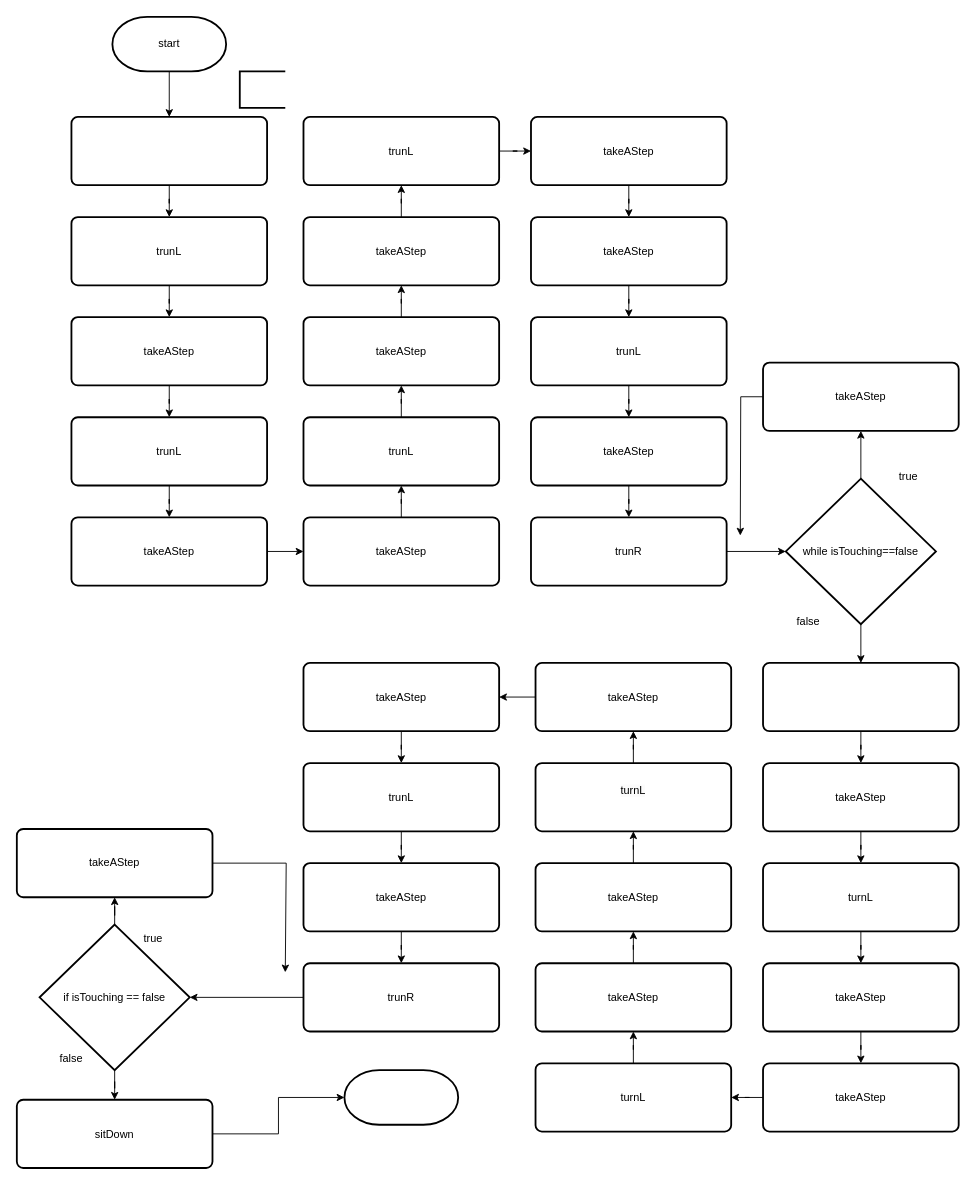
Some shapes in this 975 by 1184 pixel diagram are drawn without their labels. Here are the shapes that lost their labels. From the top down, the centre of each, then its label:
the point at 262,89: //their are comments explaining //some of my logic in Psuedo code
the point at 169,151: standUp
the point at 860,697: turnR
the point at 401,1097: end
